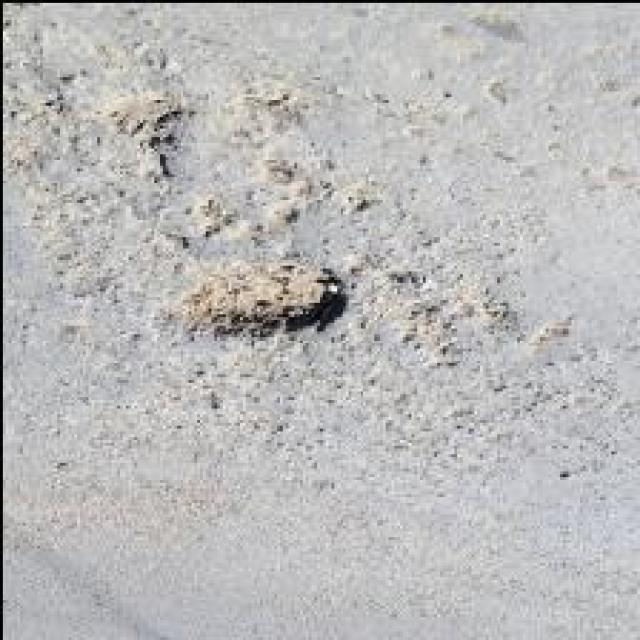BACHE: (186, 264, 349, 336), (106, 93, 188, 148)
